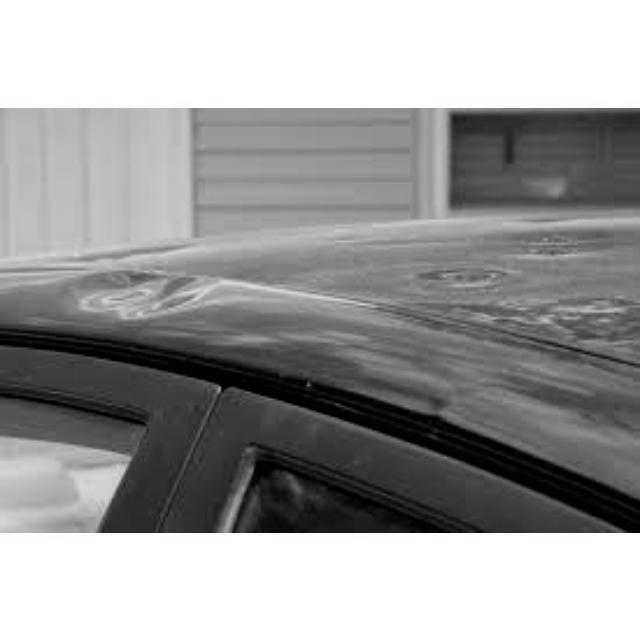roof-dent: (0, 233, 386, 414), (359, 217, 638, 466)
